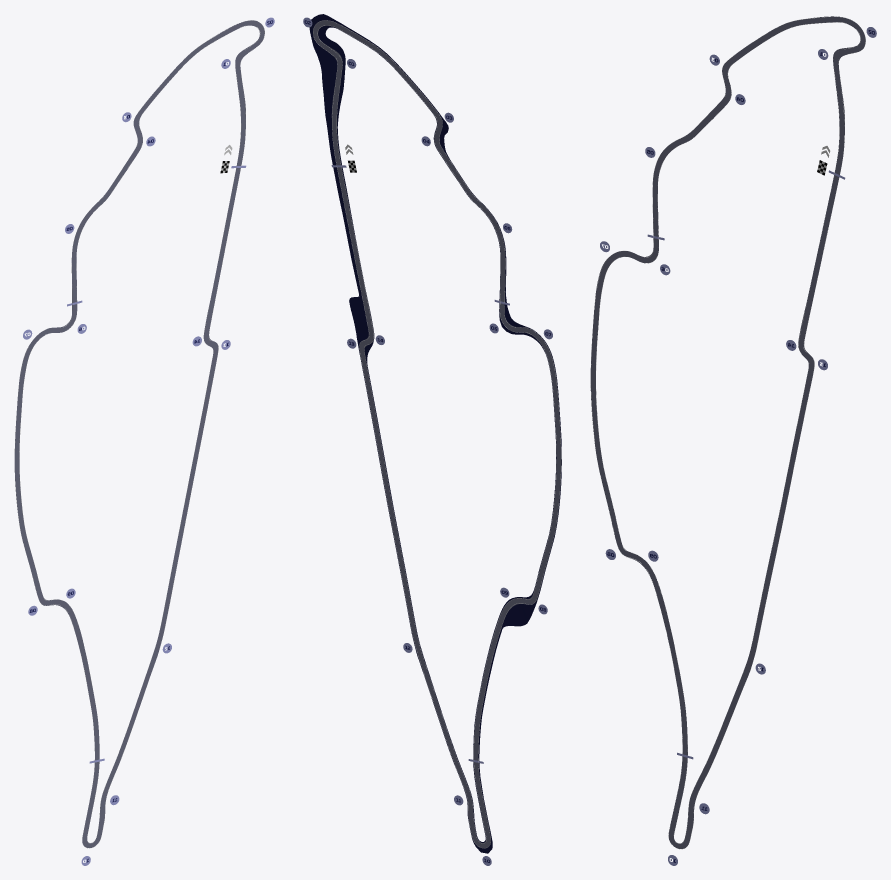
Rendered from montreal.glb.
3 renders of one model, left to right at view 1: azimuth 30°, elevation 25°; view 2: azimuth 150°, elevation 25°; view 3: azimuth 330°, elevation 25°, orthographic. The views are drawn at different scales.
Visible parts, largest first — view 1: tracklimit, whiteline; view 2: tracklimit, runoff, whiteline; view 3: tracklimit, whiteline.
Part boxes in pixels (x1,y1,x2,y2): tracklimit: (14,20,264,848); whiteline: (14,20,264,848); tracklimit: (313,20,561,848); runoff: (309,14,561,853); whiteline: (313,20,561,848); tracklimit: (590,16,865,848); whiteline: (590,16,865,849).
Bounding box in the file's own units: 663 × 1980 × 9.67.
